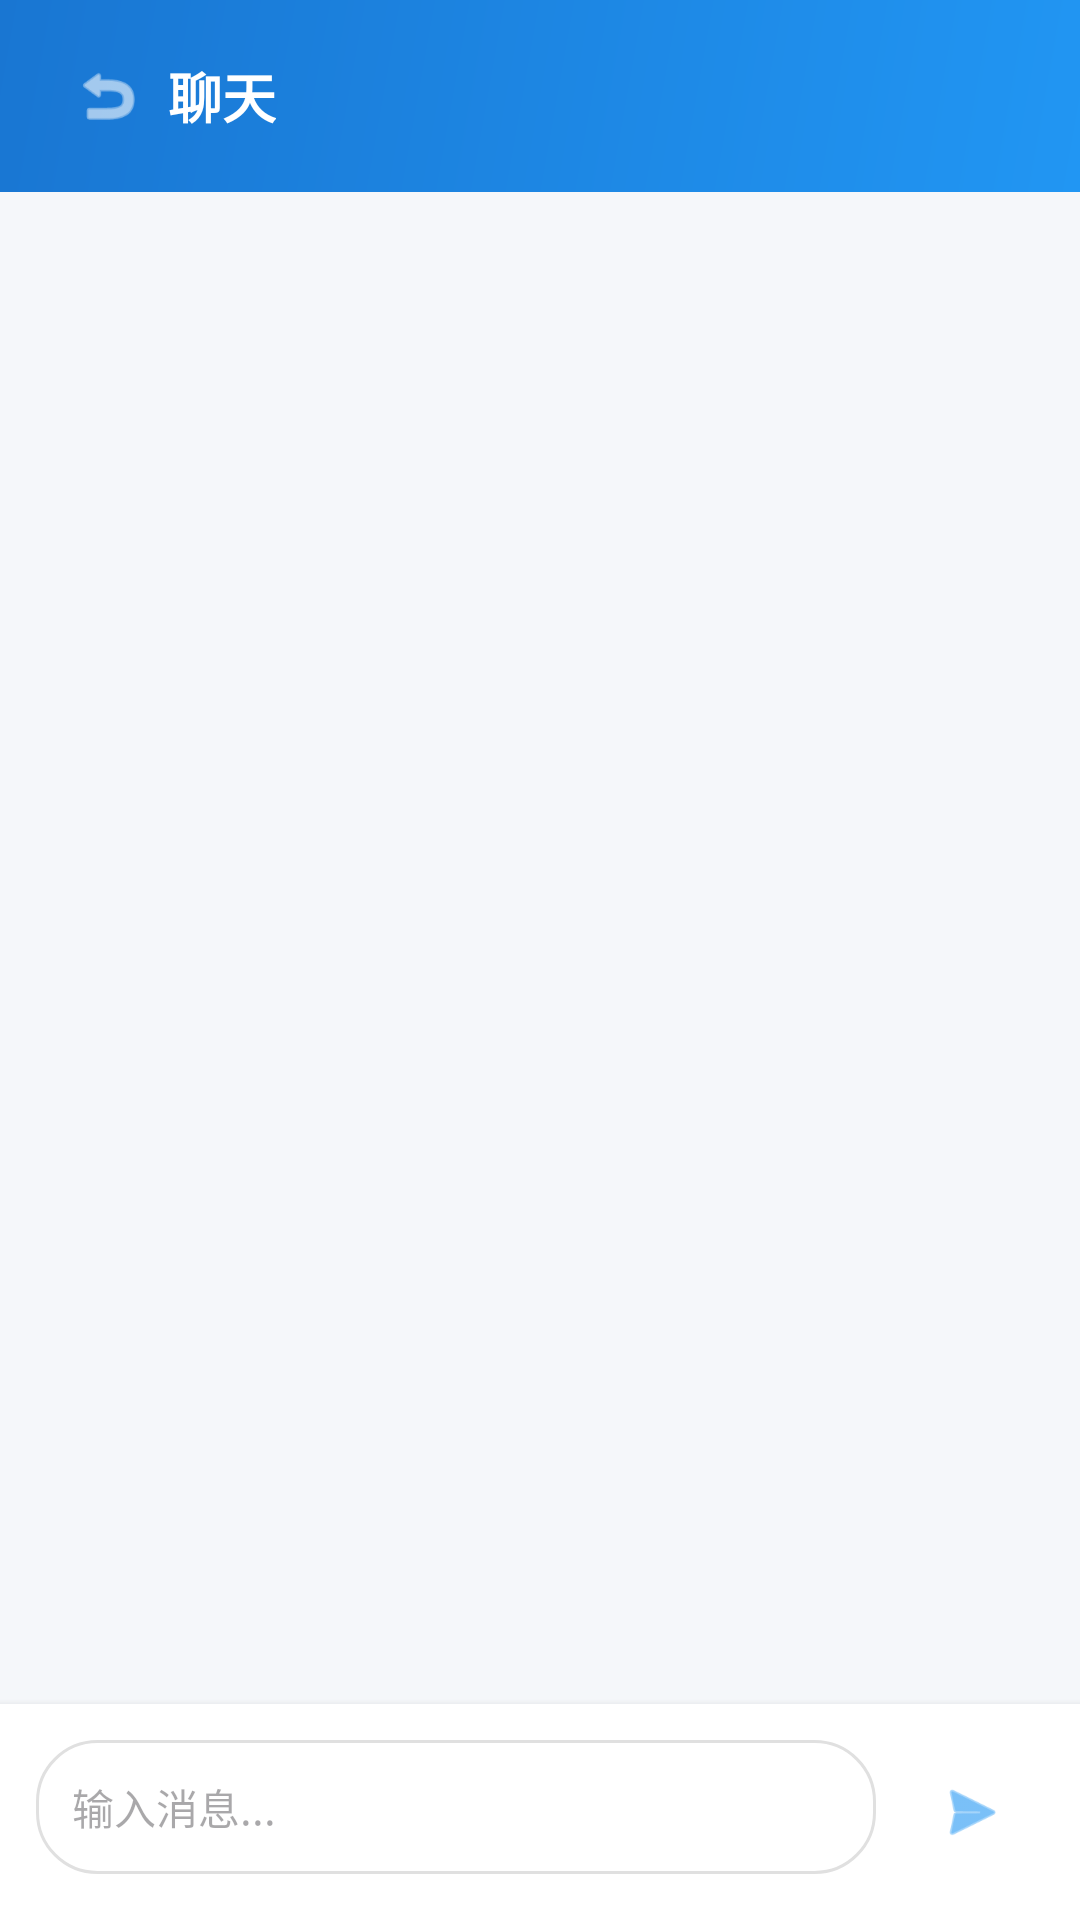

Point at icon controls on the screen. Image size 1080*1920, points as (x=x, y=y).
revert: (x=109, y=96)
send: (x=973, y=1812)
